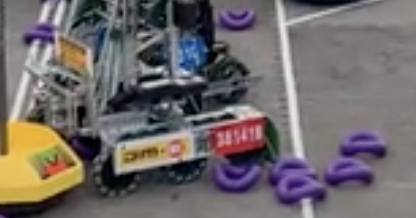ring: (213, 162, 262, 192), (277, 175, 326, 202), (325, 158, 374, 185), (340, 132, 386, 158), (270, 158, 319, 182), (23, 22, 60, 43), (220, 9, 255, 29)
